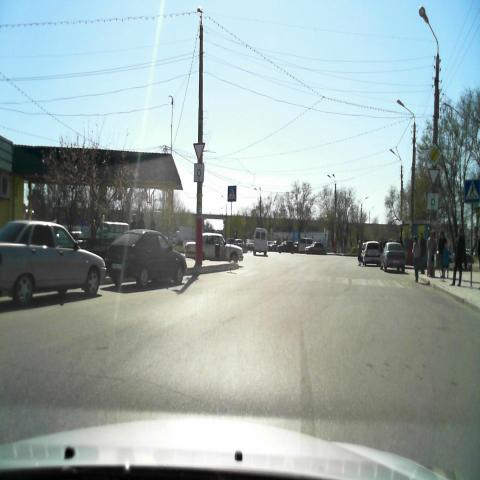2_4: (426, 166, 439, 186)
8_13_1: (426, 191, 438, 210), (194, 163, 206, 181)
